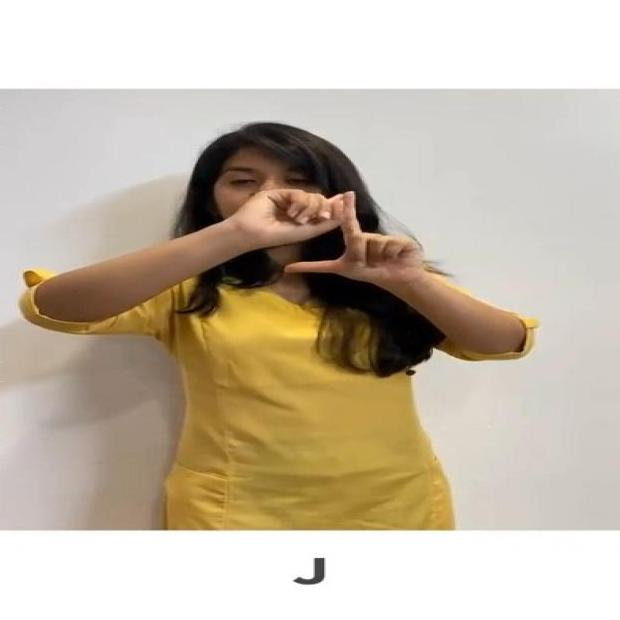I: (216, 176, 446, 295)
